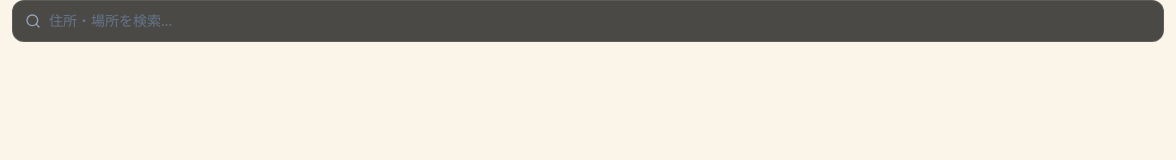
Test: AddressSearch › 古い検索レスポンスは新しい結果を上書きしない
Type "to" into the field with placeholder "住所・場所を検索...". click: (600, 21)
box: [49, 11, 1151, 31]
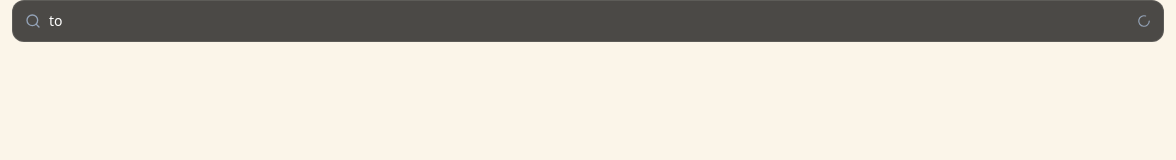
Replace the text in the field with placeholder "住所・場所を検索..." with "tok". click: (589, 21)
box: [49, 11, 1129, 31]
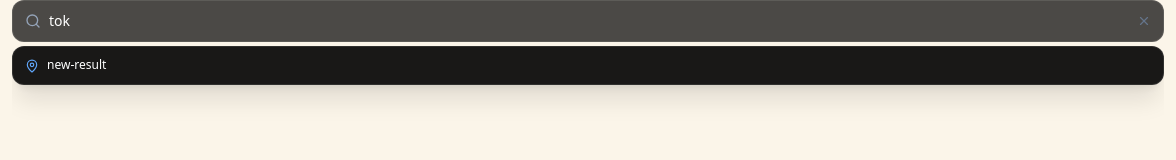
Now the text "new-result" is shown, box [47, 57, 106, 74]
